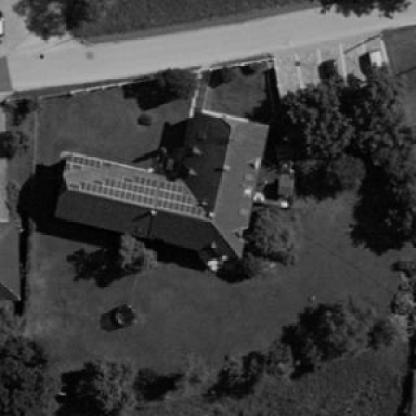solar-pv-panel: (69, 173, 204, 218), (65, 153, 114, 172)
